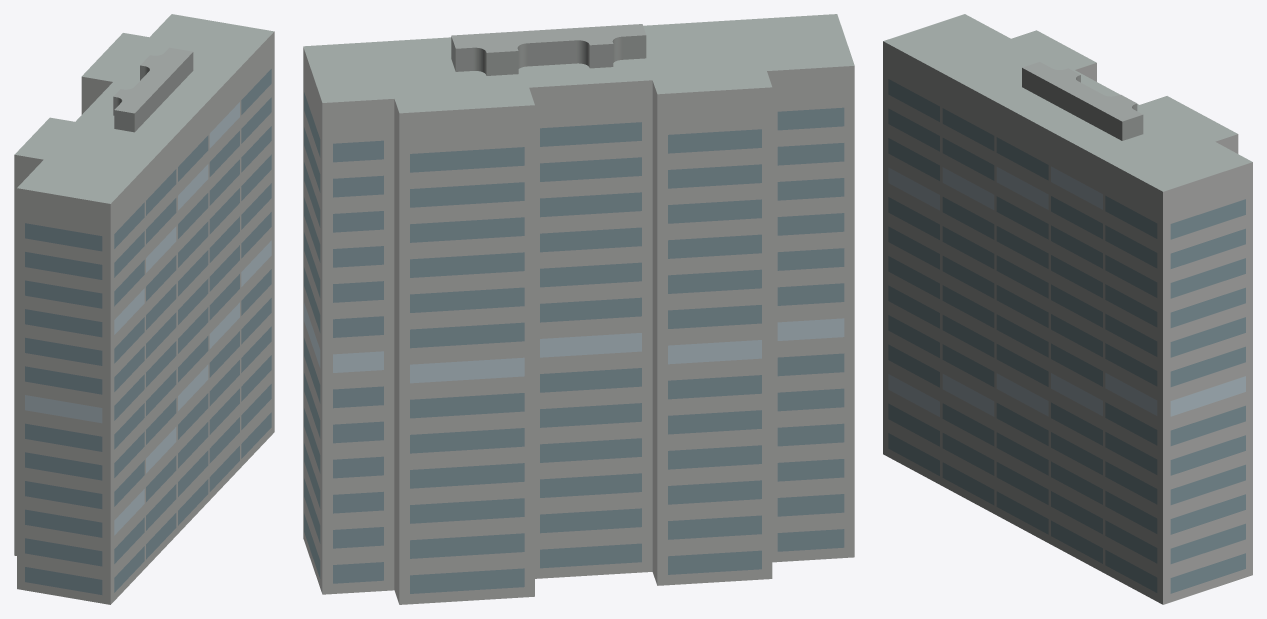
File: fallback-gaepo-raemian-forest-107.glb
The picture shows the model from 3 angles, left to right: view 1: azimuth 30°, elevation 25°; view 2: azimuth 150°, elevation 25°; view 3: azimuth 270°, elevation 25°; orthographic projection. The views are drawn at different scales.
Parts seen in each view (by area): view 1: fallback-gaepo-raemian-forest-107; view 2: fallback-gaepo-raemian-forest-107; view 3: fallback-gaepo-raemian-forest-107.
Boxes of the visible parts, bbox=[...] form: fallback-gaepo-raemian-forest-107: bbox=[14, 14, 274, 604]; fallback-gaepo-raemian-forest-107: bbox=[303, 14, 854, 604]; fallback-gaepo-raemian-forest-107: bbox=[883, 14, 1252, 604].
Bounding box in the file's own units: 38.8 × 44 × 34.09.
